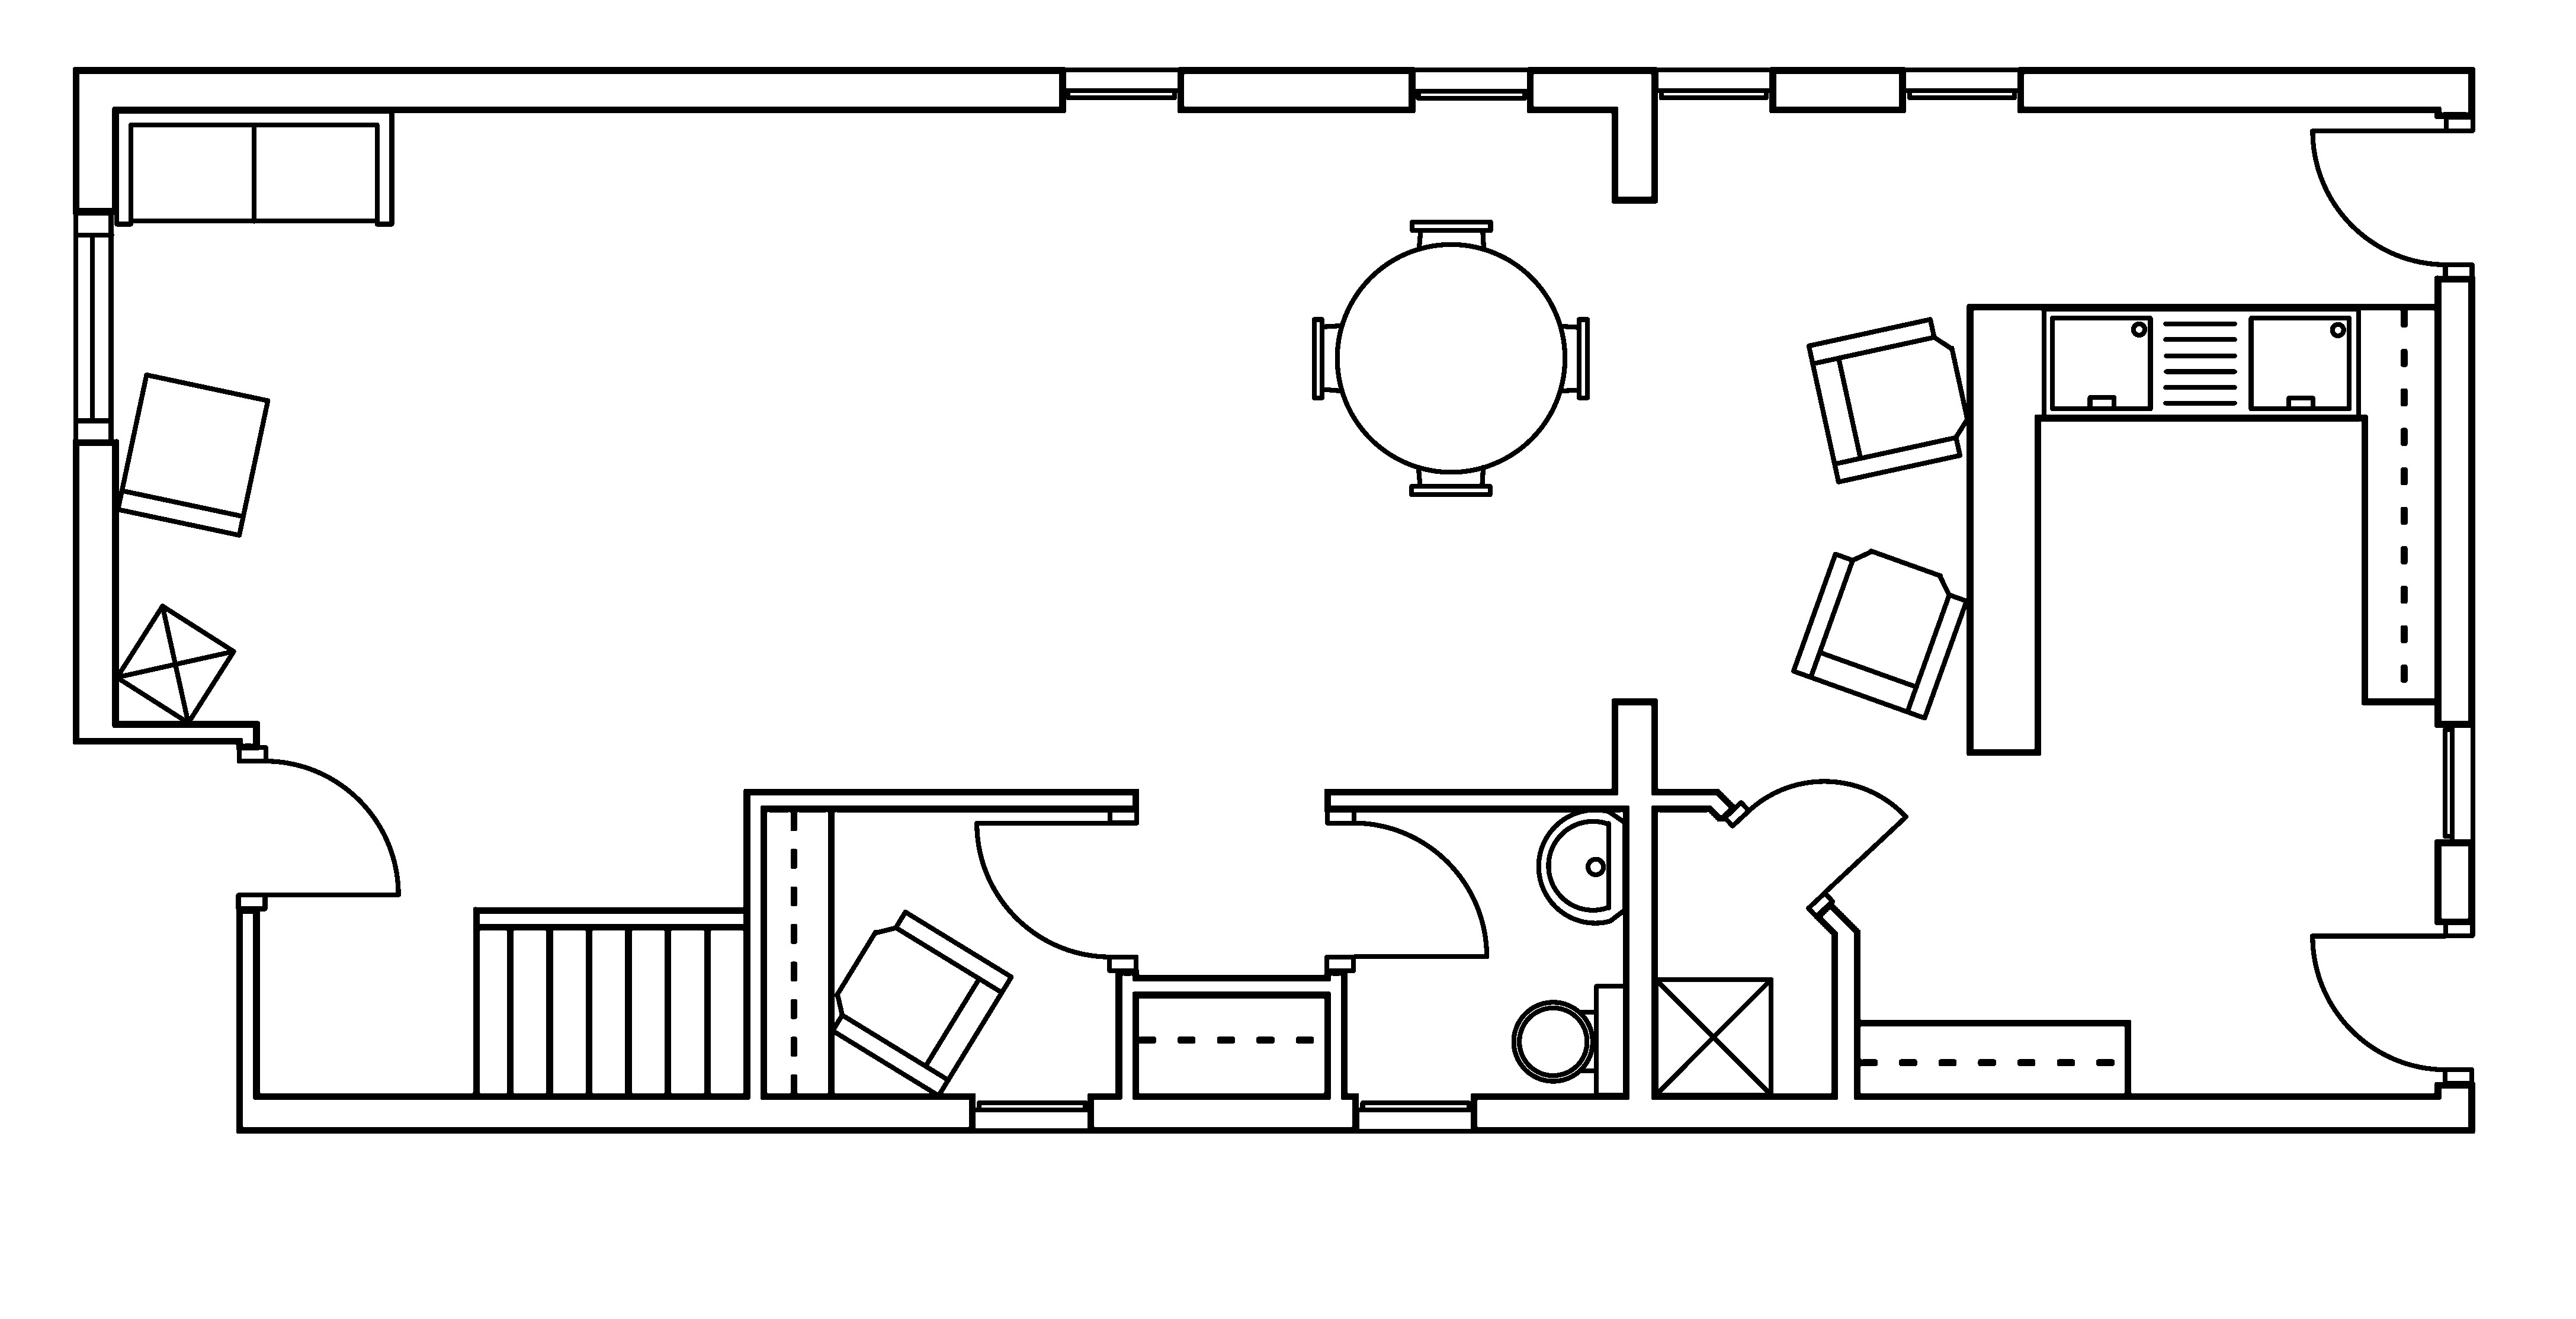armchair: (829, 908, 1014, 1099), (1791, 547, 1969, 720), (1806, 316, 1971, 485)
coffee_table: (113, 602, 237, 725), (1651, 976, 1774, 1097)
large_sink: (1512, 983, 1628, 1097)
large_sofa: (113, 108, 395, 227)
round_table: (1310, 219, 1589, 496)
small_sink: (1535, 808, 1628, 925)
small_sofa: (114, 372, 271, 538)
twin_sink: (2040, 305, 2361, 421)
